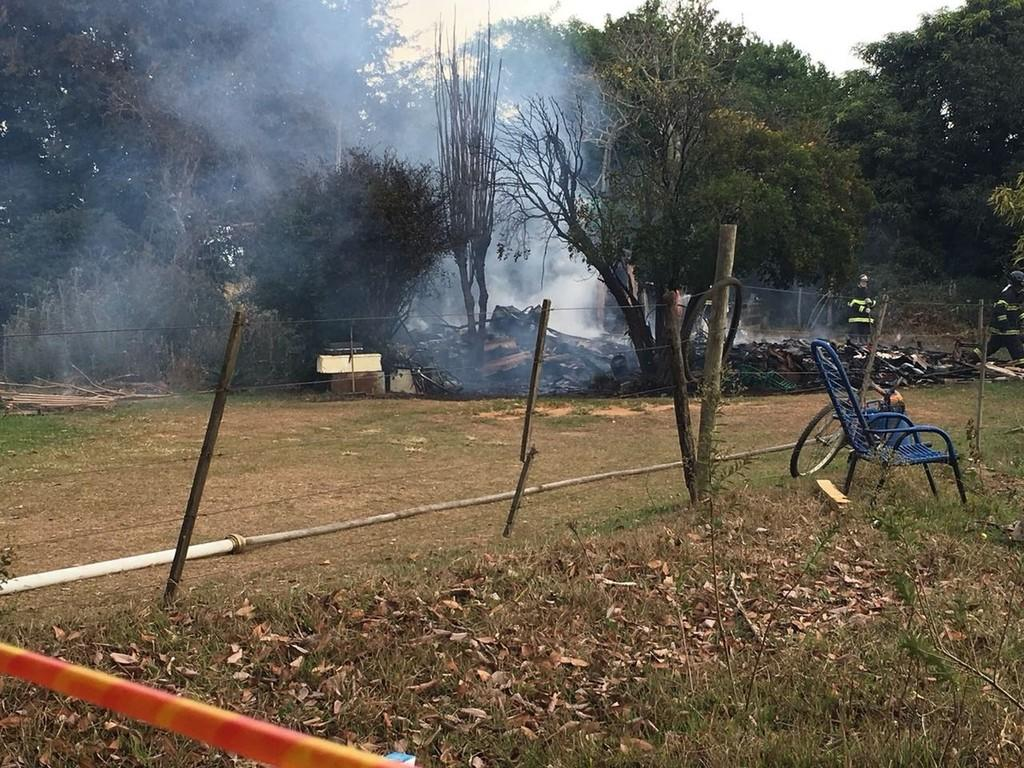smoke: (494, 256, 594, 320)
